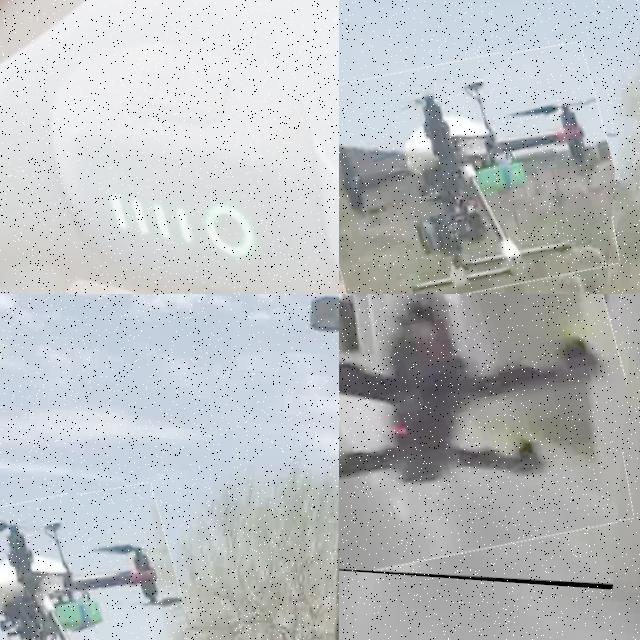drone: (0, 0, 339, 294), (339, 294, 637, 589), (339, 38, 622, 294), (0, 479, 193, 640)
